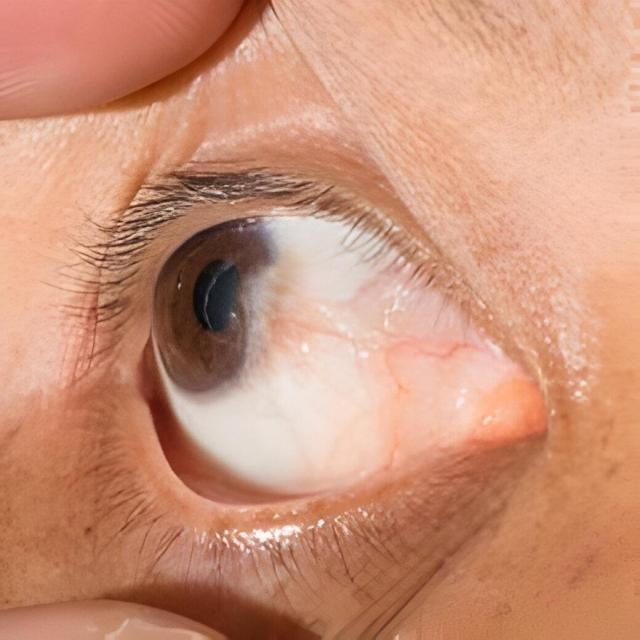Pterygium: (229, 248, 521, 461)
